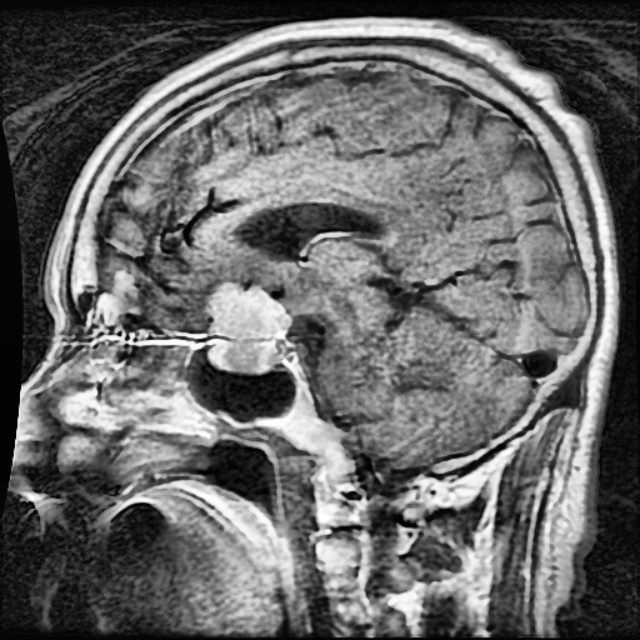Pituitary: (207, 284, 289, 373)
